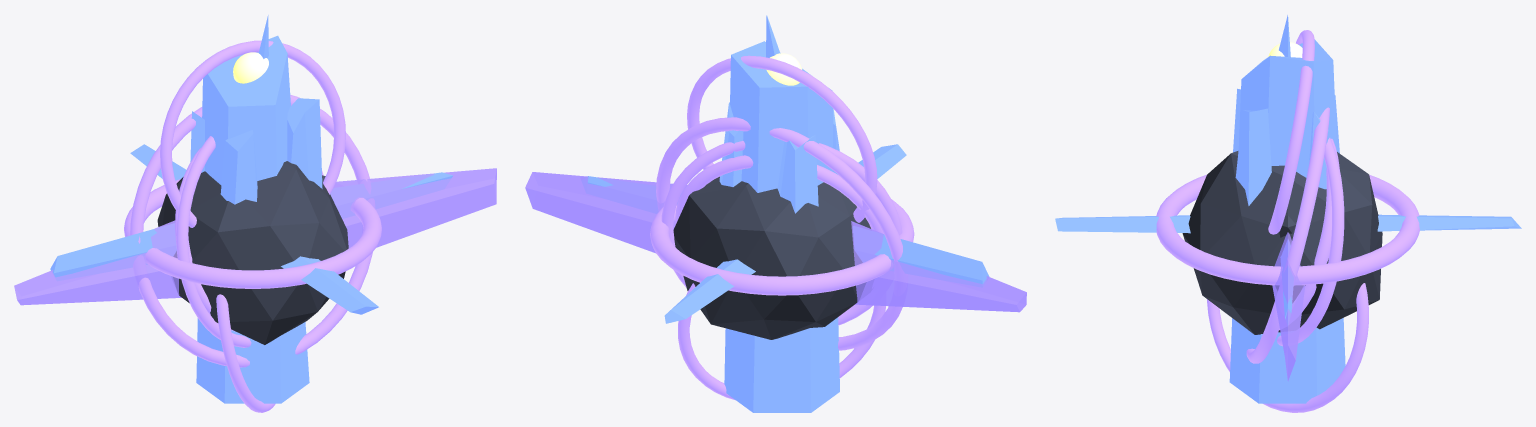
File: enemies.glb
3 renders of one model, left to right at view 1: azimuth 30°, elevation 25°; view 2: azimuth 150°, elevation 25°; view 3: azimuth 270°, elevation 25°, orthographic. The views are drawn at different scales.
Parts seen in each view (by area): view 1: Enemy_Endgame, Enemy_Boss, Enemy_MagImmune, Enemy_Flyer, Enemy_Regen; view 2: Enemy_Endgame, Enemy_Boss, Enemy_MagImmune, Enemy_Flyer, Enemy_Regen; view 3: Enemy_Endgame, Enemy_Boss, Enemy_Regen, Enemy_MagImmune, Enemy_Flyer.
Boxes of the visible parts, bbox=[...] form: Enemy_Endgame: bbox=[160, 35, 345, 412]; Enemy_Boss: bbox=[157, 98, 348, 344]; Enemy_MagImmune: bbox=[50, 95, 452, 367]; Enemy_Flyer: bbox=[14, 168, 496, 305]; Enemy_Regen: bbox=[124, 148, 381, 331]; Enemy_Endgame: bbox=[661, 41, 902, 412]; Enemy_Boss: bbox=[673, 102, 870, 339]; Enemy_MagImmune: bbox=[582, 117, 989, 350]; Enemy_Flyer: bbox=[525, 172, 1026, 312]; Enemy_Regen: bbox=[650, 155, 914, 295]; Enemy_Endgame: bbox=[1207, 30, 1368, 412]; Enemy_Boss: bbox=[1182, 88, 1382, 334]; Enemy_Regen: bbox=[1156, 138, 1419, 330]; Enemy_MagImmune: bbox=[1055, 107, 1521, 363]; Enemy_Flyer: bbox=[1272, 232, 1305, 381].
Bounding box in the file's own units: 1.69 × 1.27 × 1.36.
